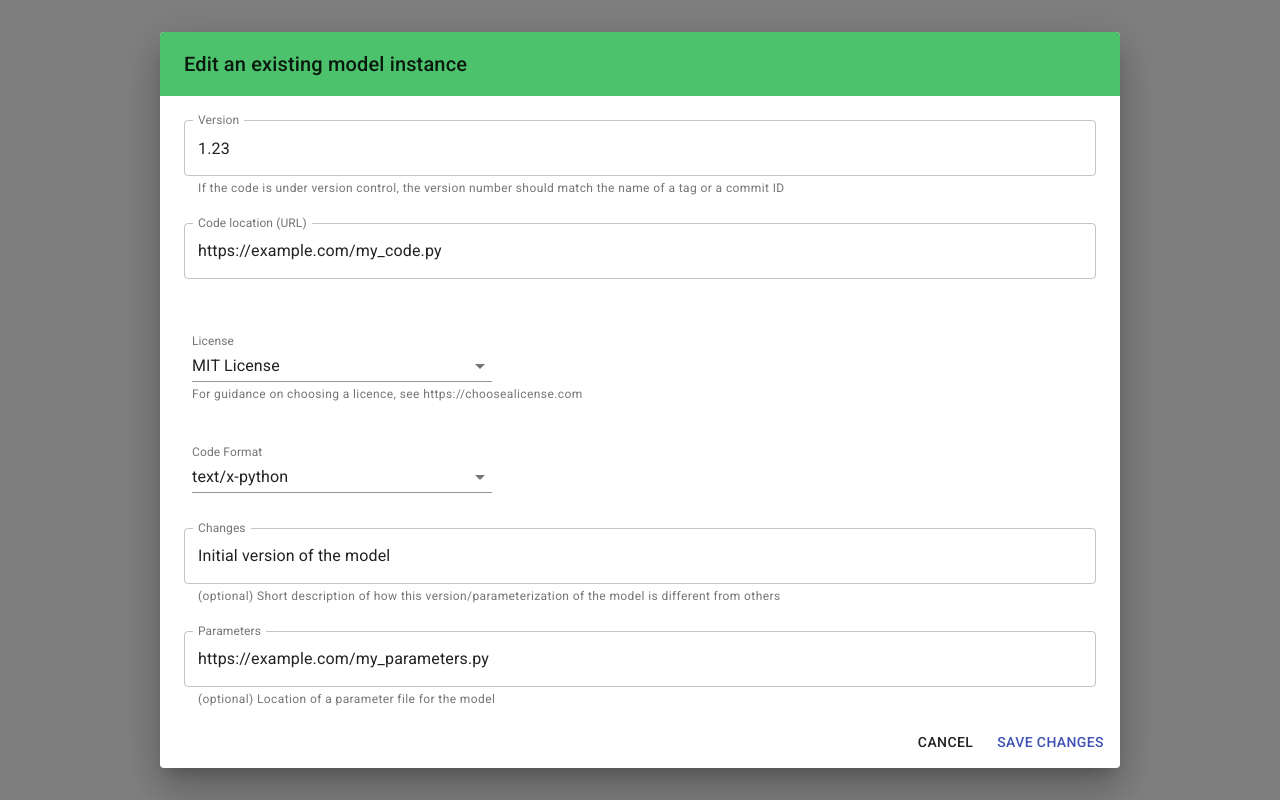
it: ModelInstanceEditForm › handleSubmit › shows error when version is changed to a non-unique value
// Change version via the sub-form
Step 1. Replace the text in the 1st field named "version" with "99.0" → (640, 148), box [184, 120, 1096, 176]
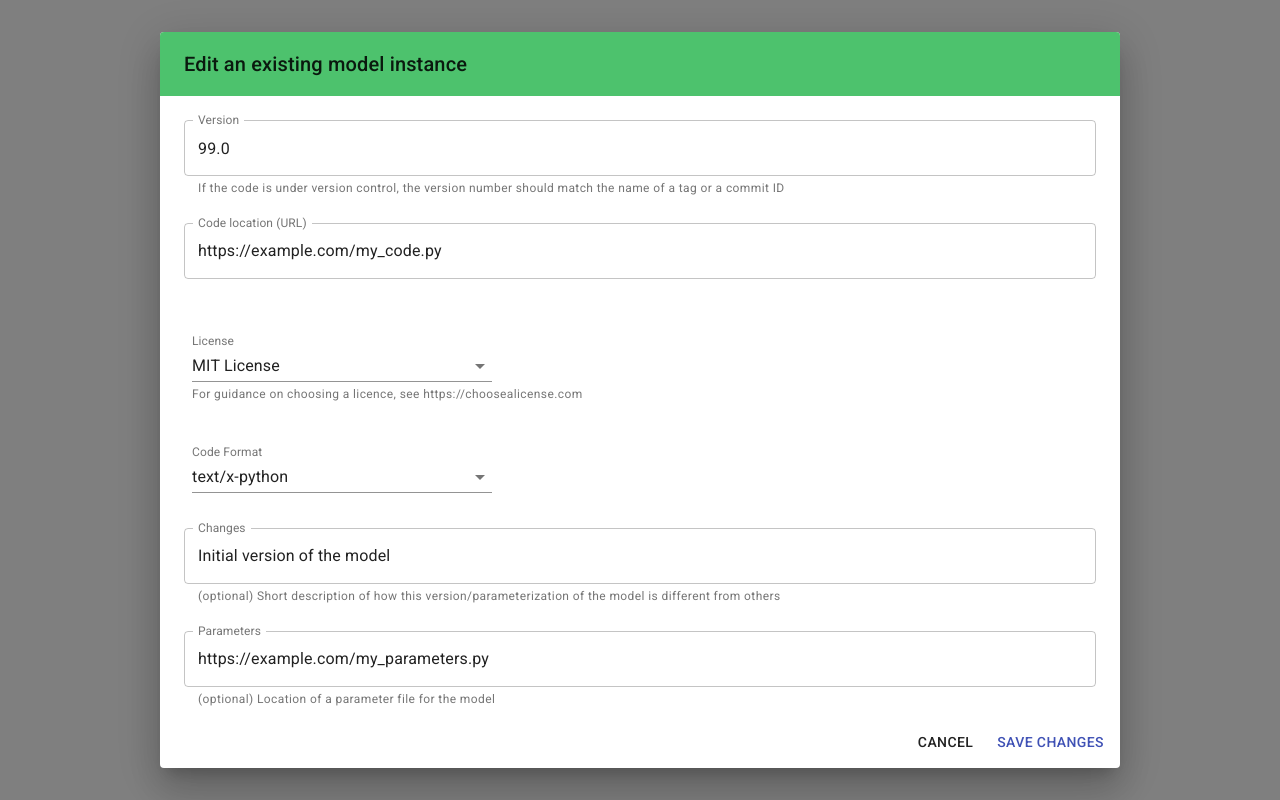
Step 2. Click the button "Save changes" → click(1051, 742), box [989, 724, 1112, 760]
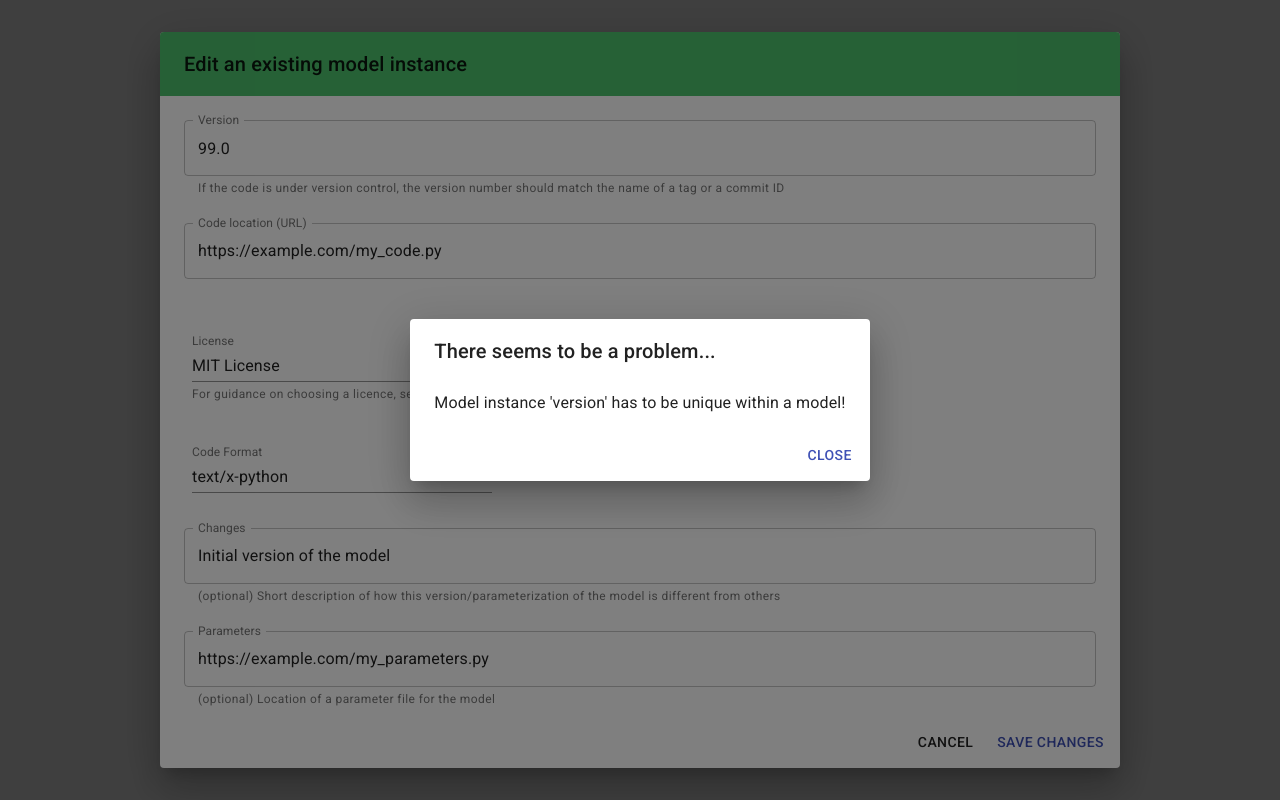
Now the text "Model instance 'version' has to be unique within a model!" is shown, box [434, 391, 846, 415]
